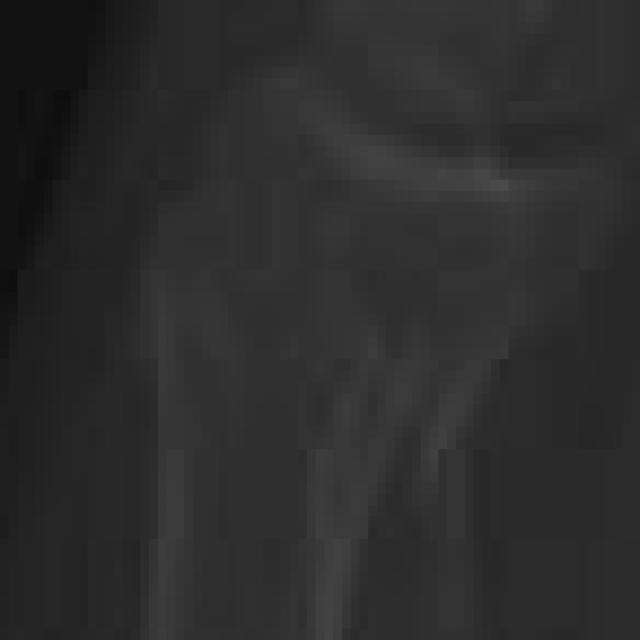fracture: (6, 2, 640, 637)
